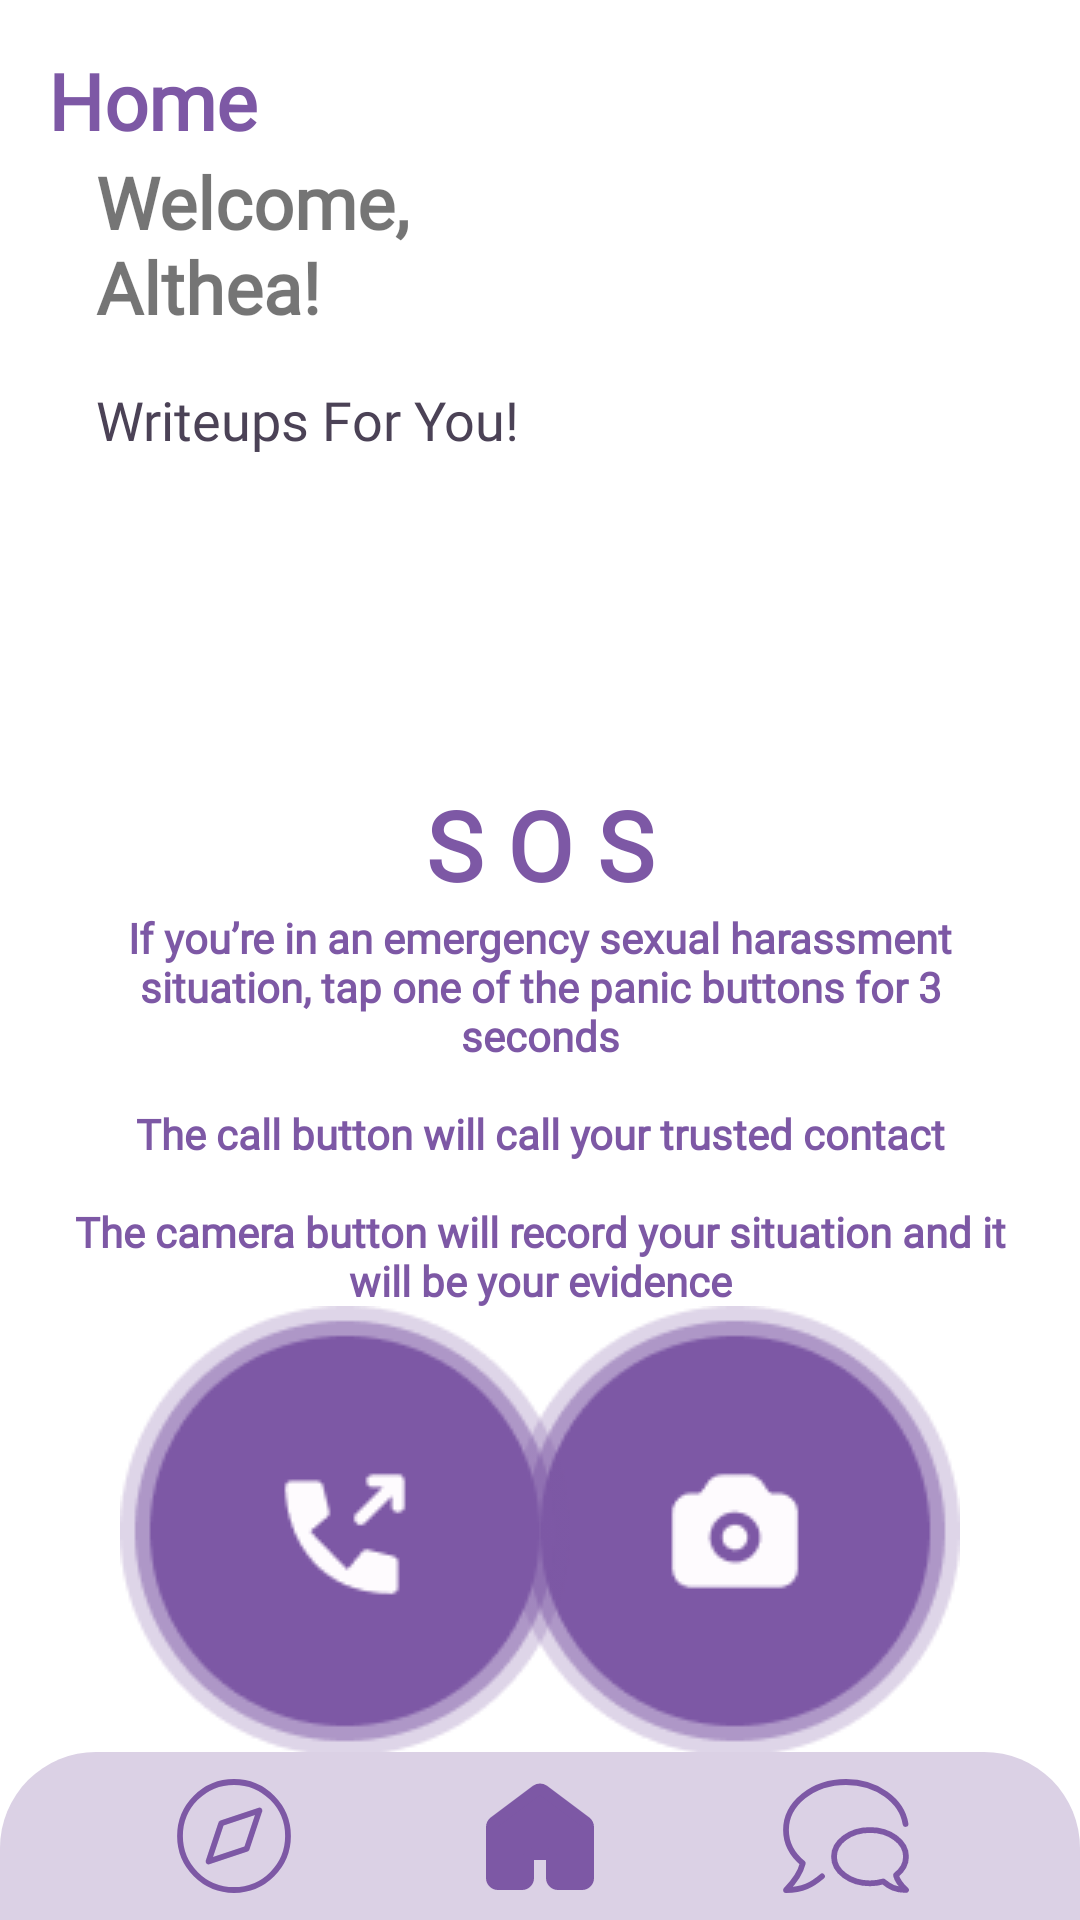

Where icons sit on this 1080 × 1920 app screen, as (x1=x1, y1=y1, x2=x2, y2=y2):
chats: (x1=783, y1=1779, x2=909, y2=1893)
compass: (x1=177, y1=1779, x2=291, y2=1893)
home: (x1=486, y1=1783, x2=594, y2=1890)
